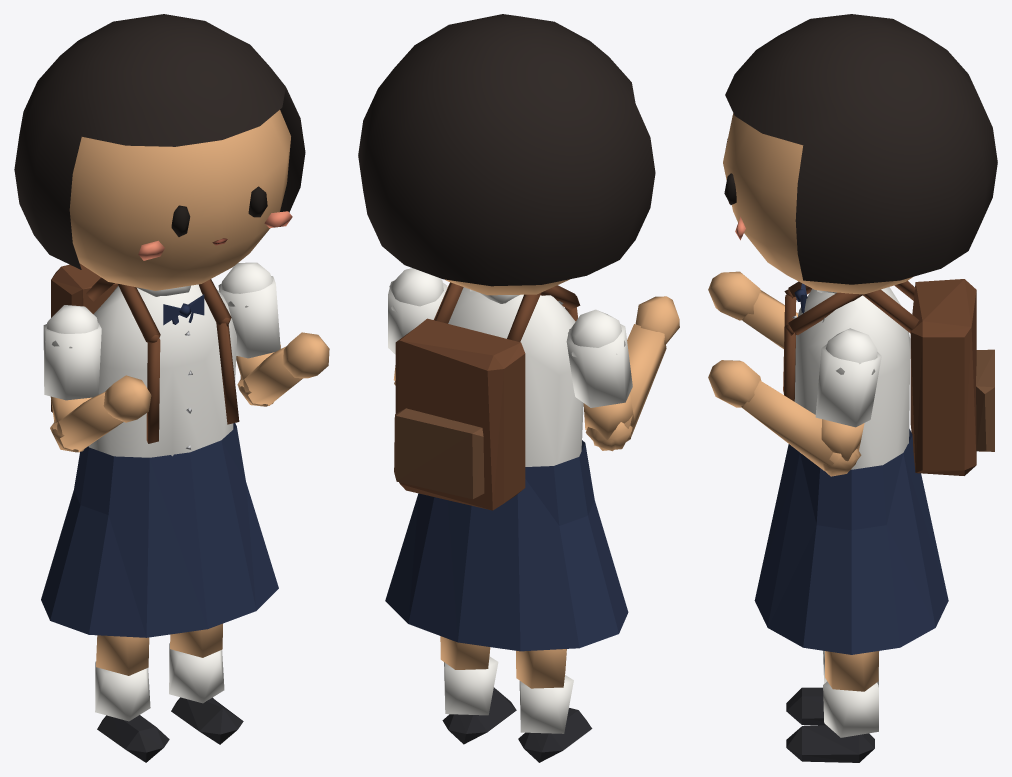
The model's file is schoolgirl.glb.
3 views of the same model, side by side, from view 1: azimuth 30°, elevation 25°; view 2: azimuth 150°, elevation 25°; view 3: azimuth 270°, elevation 25° (orthographic). The views are drawn at different scales.
Visible parts, largest first — view 1: head, body, shin_R, arm_R, shin_L, arm_L, forearm_R, forearm_L; view 2: body, head, arm_R, shin_R, shin_L, forearm_R, arm_L; view 3: head, body, shin_L, arm_L, forearm_L, forearm_R, shin_R.
Boxes of the visible parts, box(x1,y1,x2,y2) form: head: box(14, 14, 305, 290); body: box(41, 263, 278, 637); shin_R: box(95, 635, 169, 762); arm_R: box(43, 305, 101, 452); shin_L: box(169, 623, 243, 744); arm_L: box(218, 262, 281, 406); forearm_R: box(52, 375, 151, 452); forearm_L: box(238, 332, 329, 405); body: box(385, 282, 628, 651); head: box(358, 14, 655, 295); arm_R: box(566, 309, 635, 450); shin_R: box(516, 649, 592, 762); shin_L: box(440, 636, 516, 744); forearm_R: box(591, 296, 679, 451); arm_L: box(388, 268, 447, 385); head: box(723, 14, 997, 294); body: box(754, 279, 994, 654); shin_L: box(786, 651, 879, 762); arm_L: box(815, 328, 881, 476); forearm_L: box(708, 360, 859, 471); forearm_R: box(708, 271, 798, 348); shin_R: box(786, 650, 878, 725).
Size of the model in its own units: 0.4963 by 1.32 by 0.4829.
